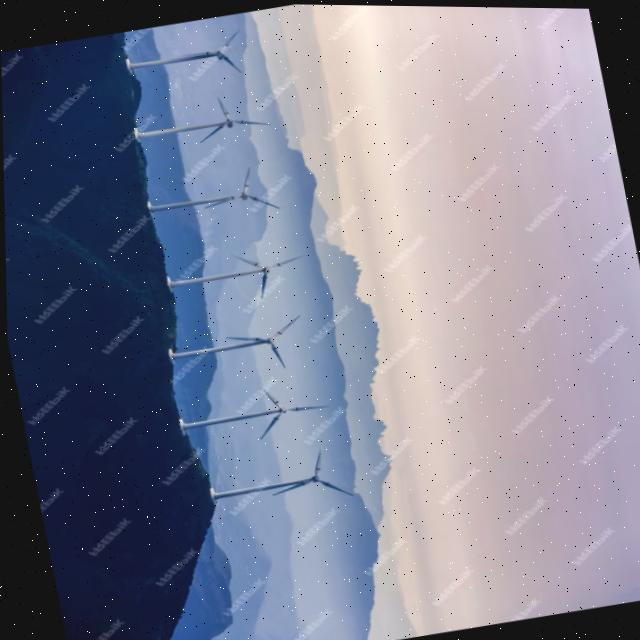wind-turbine: (177, 384, 325, 439), (210, 449, 350, 499), (170, 315, 298, 367), (145, 165, 278, 212), (136, 96, 267, 141), (168, 255, 300, 296), (124, 29, 239, 71)
